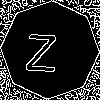Z: (25, 25, 58, 72)
